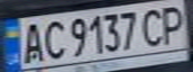1: (84, 12, 106, 54)
3: (103, 10, 124, 52)
7: (118, 8, 142, 51)
9: (66, 14, 87, 57)
A: (18, 19, 48, 64)
C: (39, 17, 69, 62), (139, 6, 169, 47)
P: (157, 2, 190, 46)
